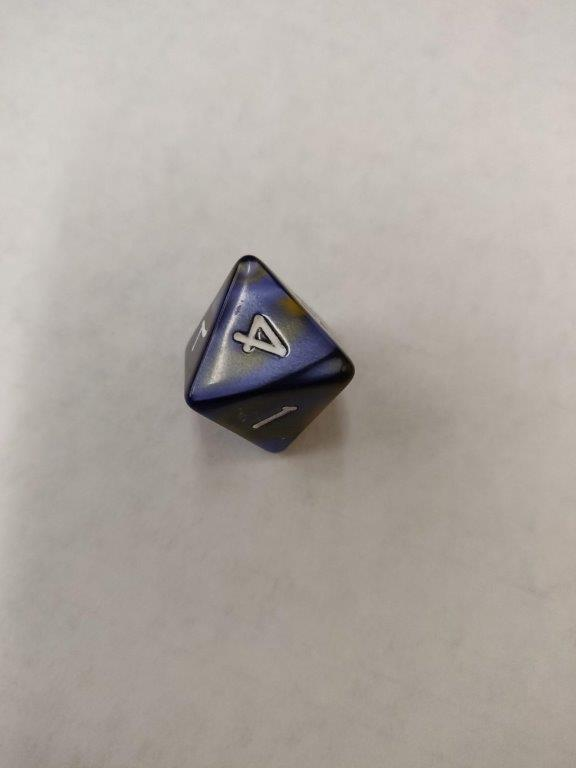d8-4: (183, 252, 357, 454)
